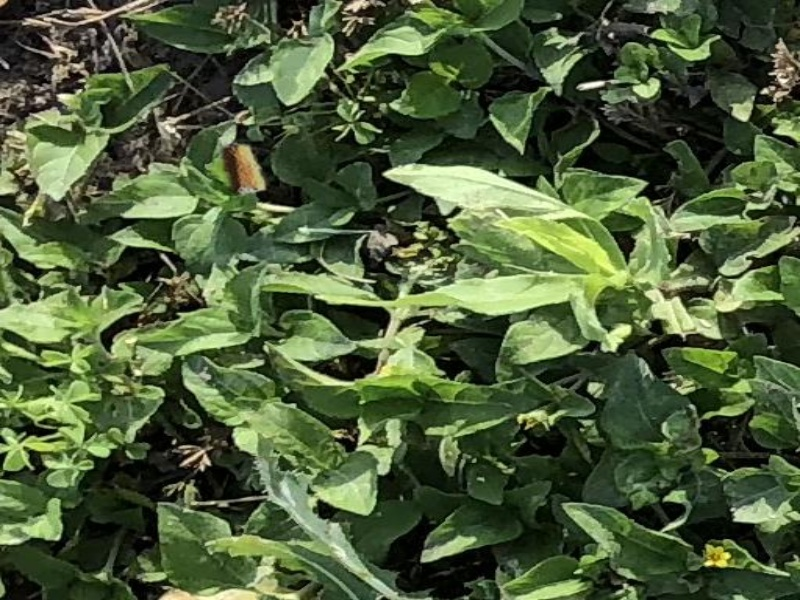cig: (221, 138, 268, 198)
